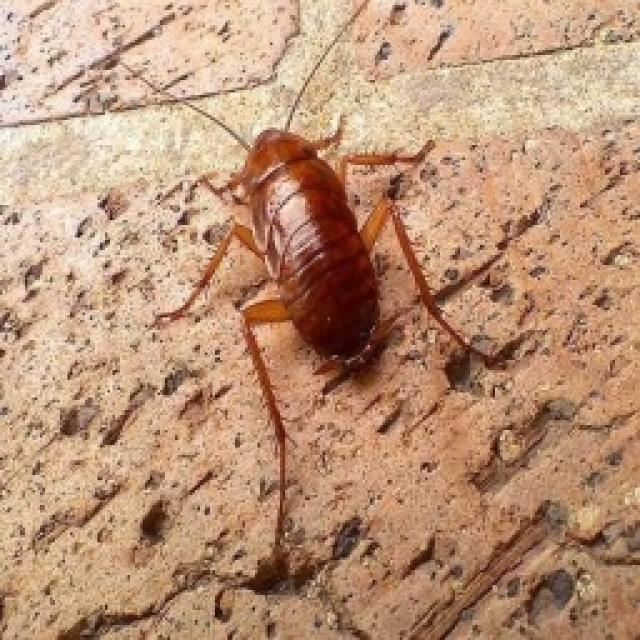cockroach: (228, 125, 384, 359)
